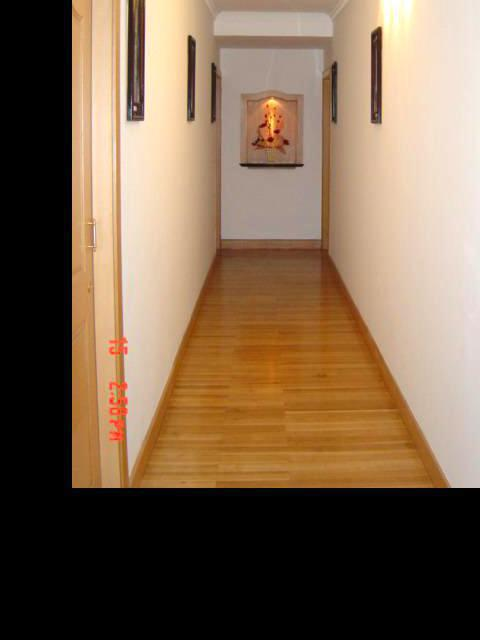Puerta: (73, 0, 107, 483)
